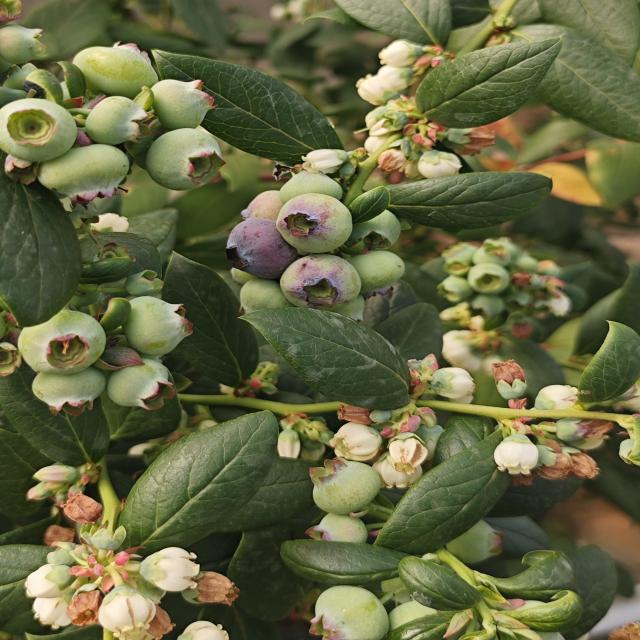ripe: (218, 217, 305, 283)
